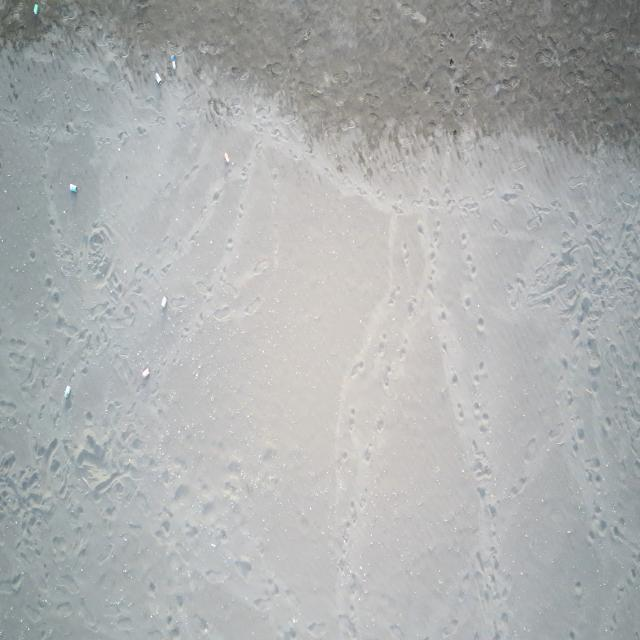Garbage: (169, 55, 176, 70), (64, 384, 70, 399), (160, 296, 167, 308), (223, 151, 230, 163), (32, 3, 39, 15), (68, 183, 76, 192), (155, 71, 161, 83), (141, 367, 148, 377)
